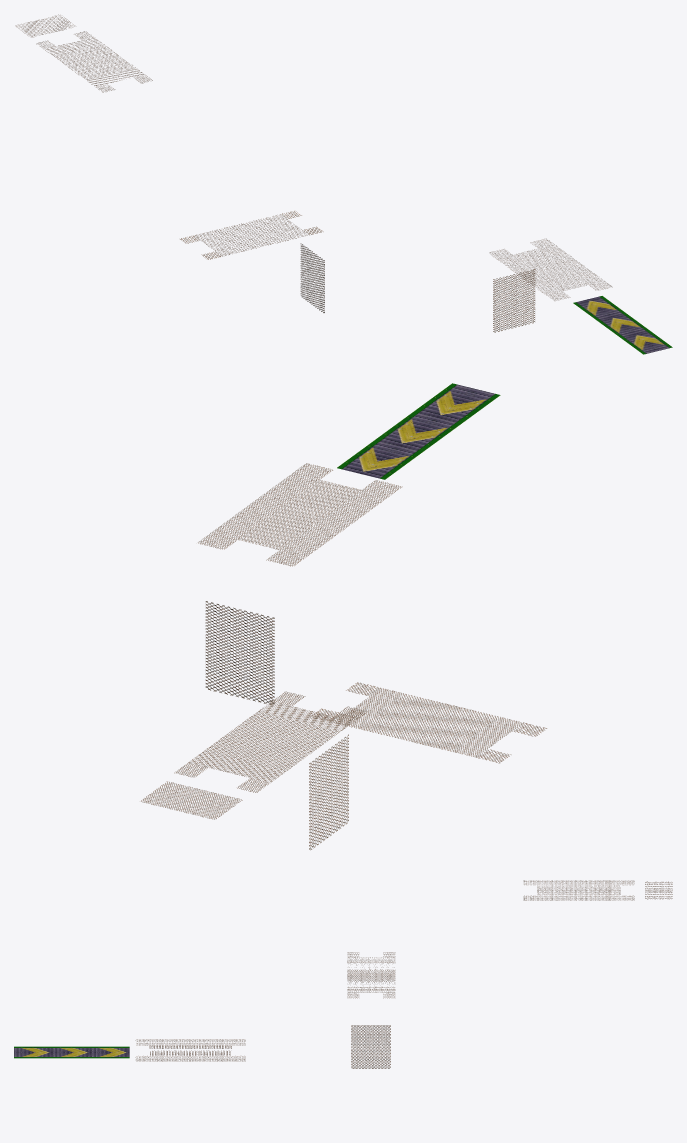
Rendered from STG08_PNWS_01.obj.
3 views of the same model, one above another, from view 1: azimuth 30°, elevation 25°; view 2: azimuth 150°, elevation 25°; view 3: azimuth 270°, elevation 25° (orthographic). The views are drawn at different scales.
Parts seen in each view (by area): view 1: Object_2; view 2: Object_2; view 3: Object_2.
Part boxes in pixels (x1,y1,x2,y2): Object_2: (15, 14, 672, 354); Object_2: (141, 383, 546, 850); Object_2: (14, 880, 672, 1068).
Size of the model in its own units: 655 by 392 by 1650.
Materials: 2 (2 with a texture image).
